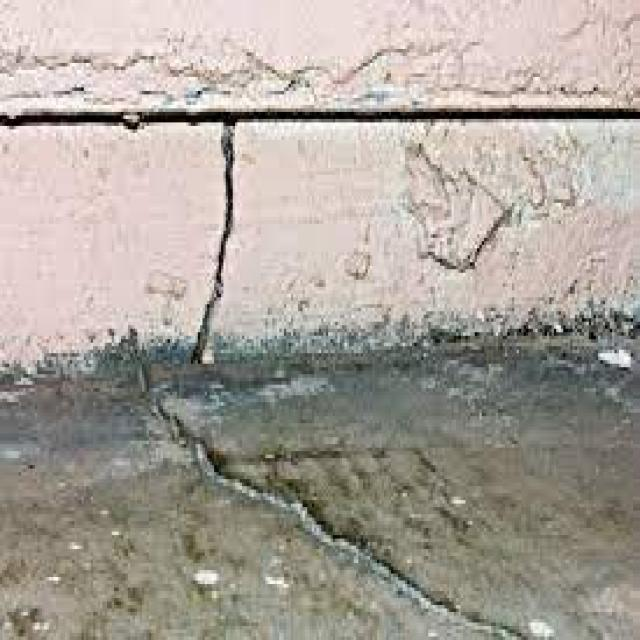Crack: (137, 367, 528, 637), (189, 119, 235, 360)
